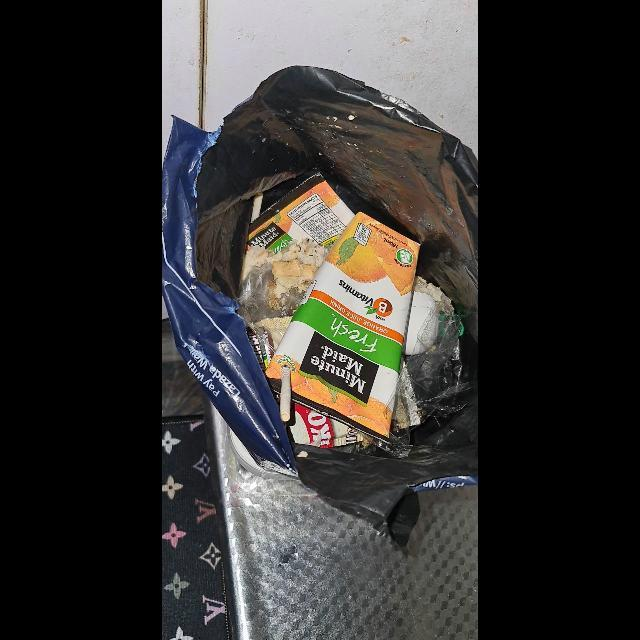food_wrapper: (286, 398, 363, 448)
left_over_food: (242, 239, 329, 300)
plastic_bag: (162, 65, 479, 549)
